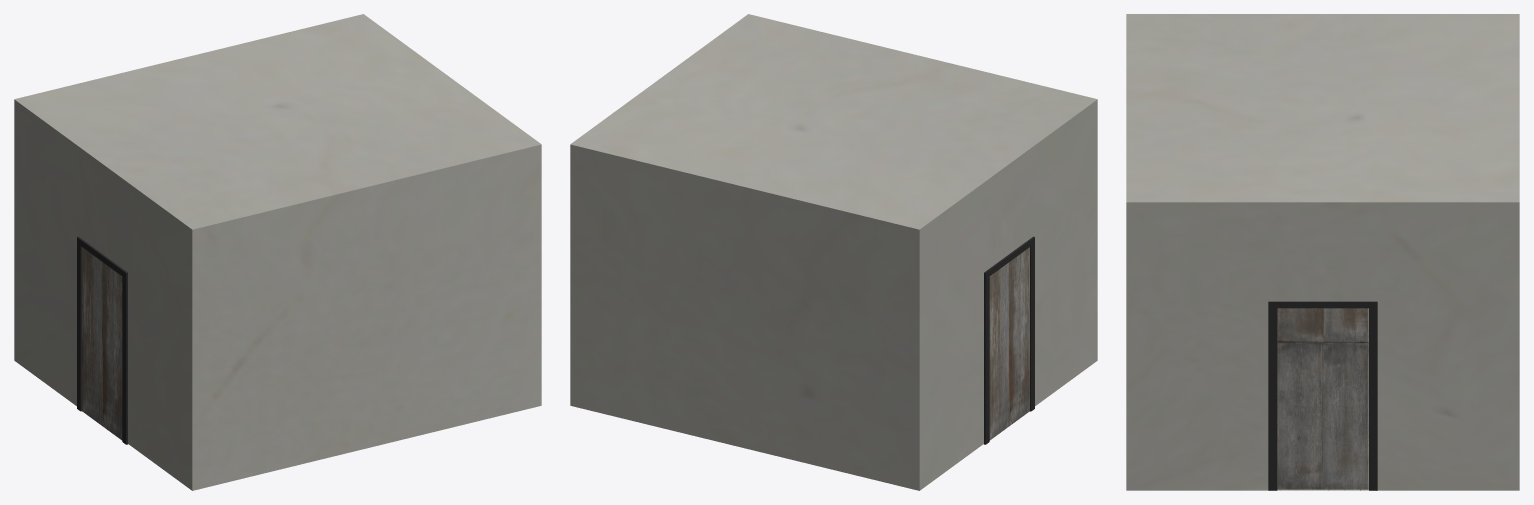
The model's file is Enviornmet.fbx.
The picture shows the model from 3 angles, left to right: view 1: azimuth 30°, elevation 25°; view 2: azimuth 150°, elevation 25°; view 3: azimuth 270°, elevation 25°; orthographic projection. The views are drawn at different scales.
Parts seen in each view (by area): view 1: Cube.002, Cube.004, Cube.003; view 2: Cube.002, Cube.004, Cube.003; view 3: Cube.002, Cube.000, Cube.001.
Part boxes in pixels (bbox=[...]): Cube.002: bbox=[14, 14, 541, 490]; Cube.004: bbox=[82, 247, 122, 440]; Cube.003: bbox=[77, 236, 127, 444]; Cube.002: bbox=[570, 14, 1097, 490]; Cube.004: bbox=[989, 247, 1029, 440]; Cube.003: bbox=[984, 236, 1034, 444]; Cube.002: bbox=[1126, 14, 1519, 490]; Cube.000: bbox=[1277, 308, 1368, 489]; Cube.001: bbox=[1268, 301, 1377, 490].
Size of the model in its own units: 281 by 200 by 247.
